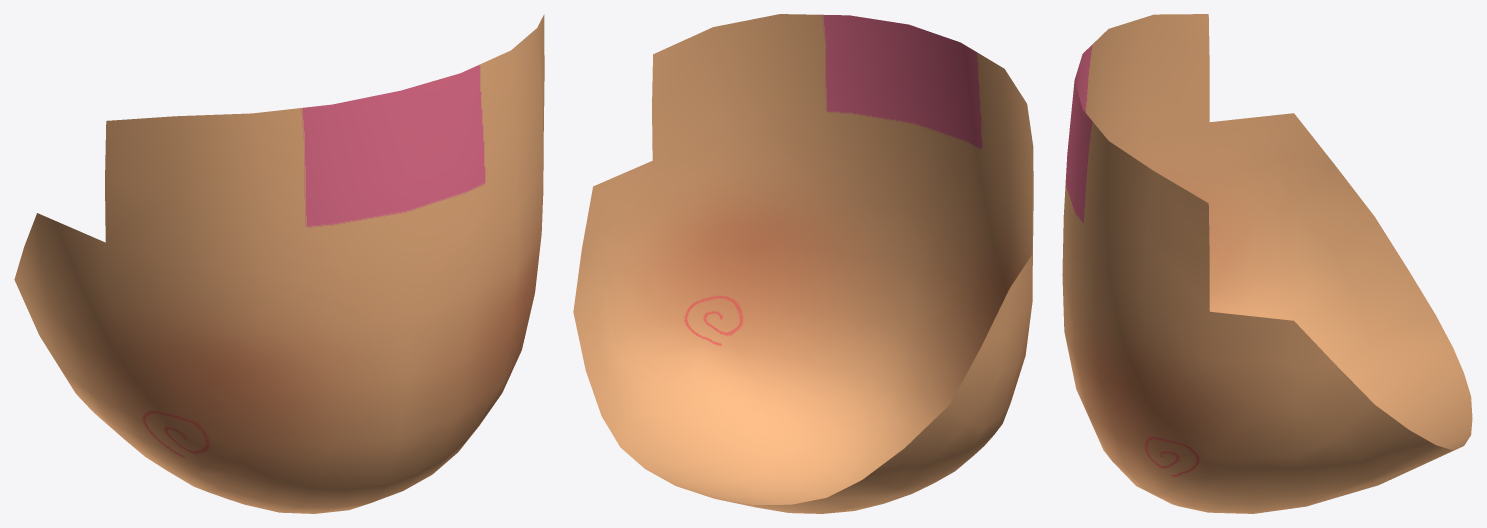
Rendered from Faceline_1.glb.
3 renders of one model, left to right at view 1: azimuth 30°, elevation 25°; view 2: azimuth 150°, elevation 25°; view 3: azimuth 270°, elevation 25°, orthographic. The views are drawn at different scales.
Visible parts, largest first — view 1: Head01; view 2: Head01; view 3: Head01.
Part boxes in pixels (x1,y1,x2,y2): Head01: (14, 14, 544, 513); Head01: (573, 14, 1033, 513); Head01: (1062, 14, 1472, 513).
Bounding box in the file's own units: 52.6 × 49.07 × 43.9.
1 material, 1 textured.
